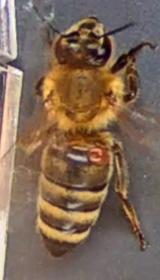varroa_mite: (82, 134, 115, 171)
